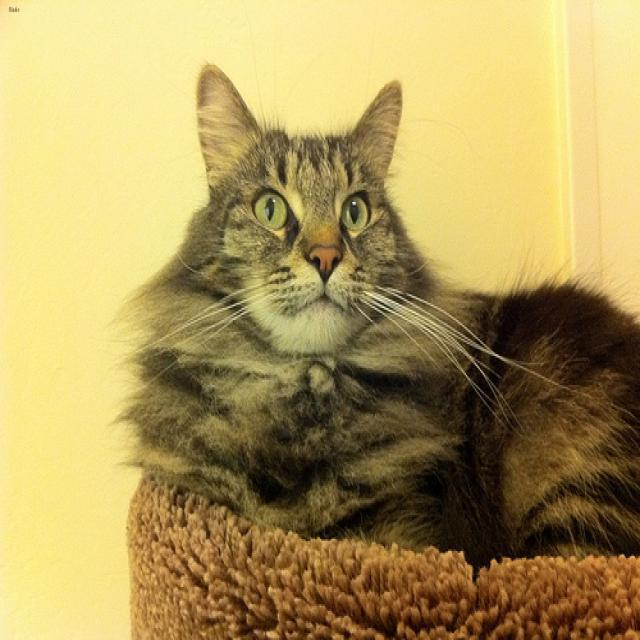Maine_Coon: (194, 61, 420, 365)
